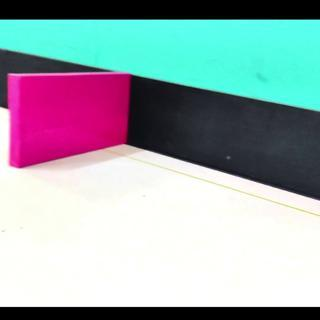xparking: (17, 79, 124, 163)
